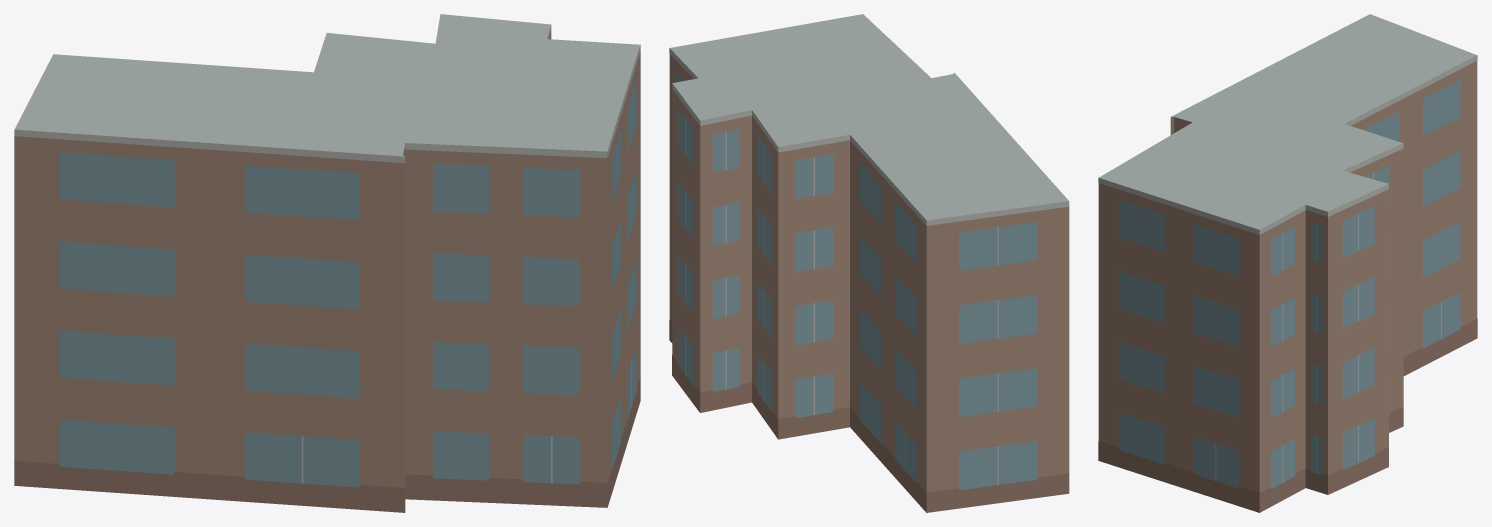
Rendered from survey-upis-32760013.glb.
3 renders of one model, left to right at view 1: azimuth 30°, elevation 25°; view 2: azimuth 150°, elevation 25°; view 3: azimuth 270°, elevation 25°, orthographic. The views are drawn at different scales.
Parts seen in each view (by area): view 1: survey-upis-32760013.tmp; view 2: survey-upis-32760013.tmp; view 3: survey-upis-32760013.tmp.
Part boxes in pixels (left/top/right/bottom): survey-upis-32760013.tmp: left=14, top=14, right=640, bottom=512; survey-upis-32760013.tmp: left=669, top=14, right=1069, bottom=512; survey-upis-32760013.tmp: left=1098, top=14, right=1477, bottom=512.
Size of the model in its own units: 21.68 by 13.25 by 16.09.
